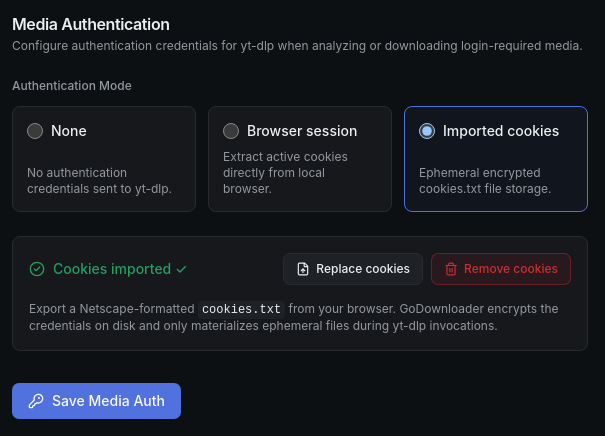
it: MediaAuthPanel Component › removes cookies and updates mode to None
This screenshot has width=605, height=436.
Check: the text "Cookies imported ✓" is shown, box [53,259,187,279]
Click the button "Remove cookies" at (501, 269), box [431,253,571,285]
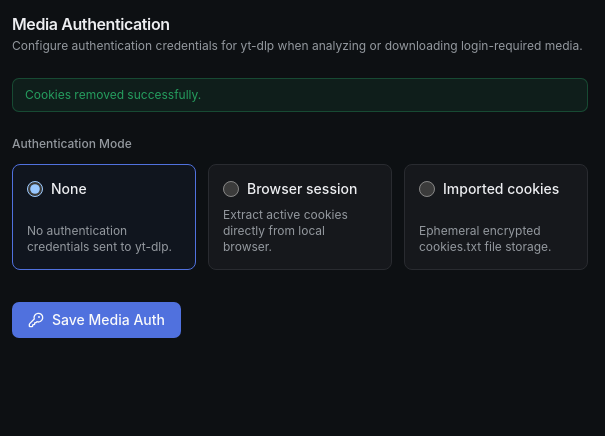
Check: the text "Cookies removed successfully." is shown, box [12,78,588,112]
Check: the radio button labelled "None No authentication credentials sent to yt-dlp." is checked, box [27,181,43,197]
